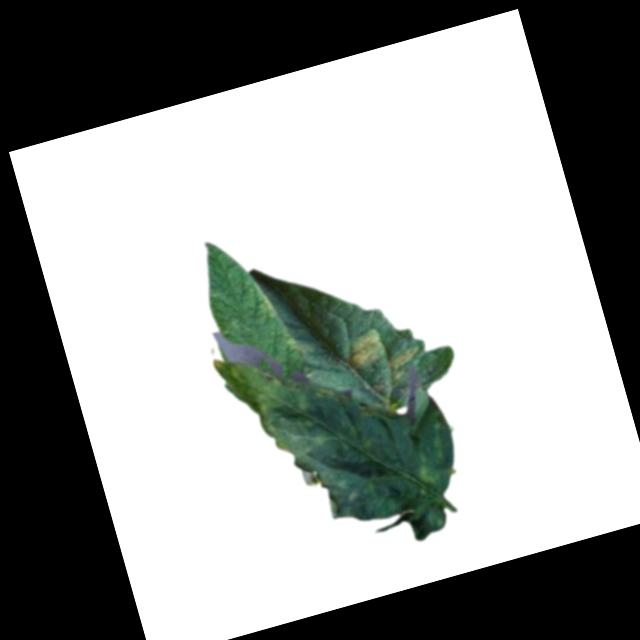Leaf_Mold: (204, 301, 478, 585), (381, 340, 428, 383), (344, 327, 389, 371), (248, 276, 280, 323)
